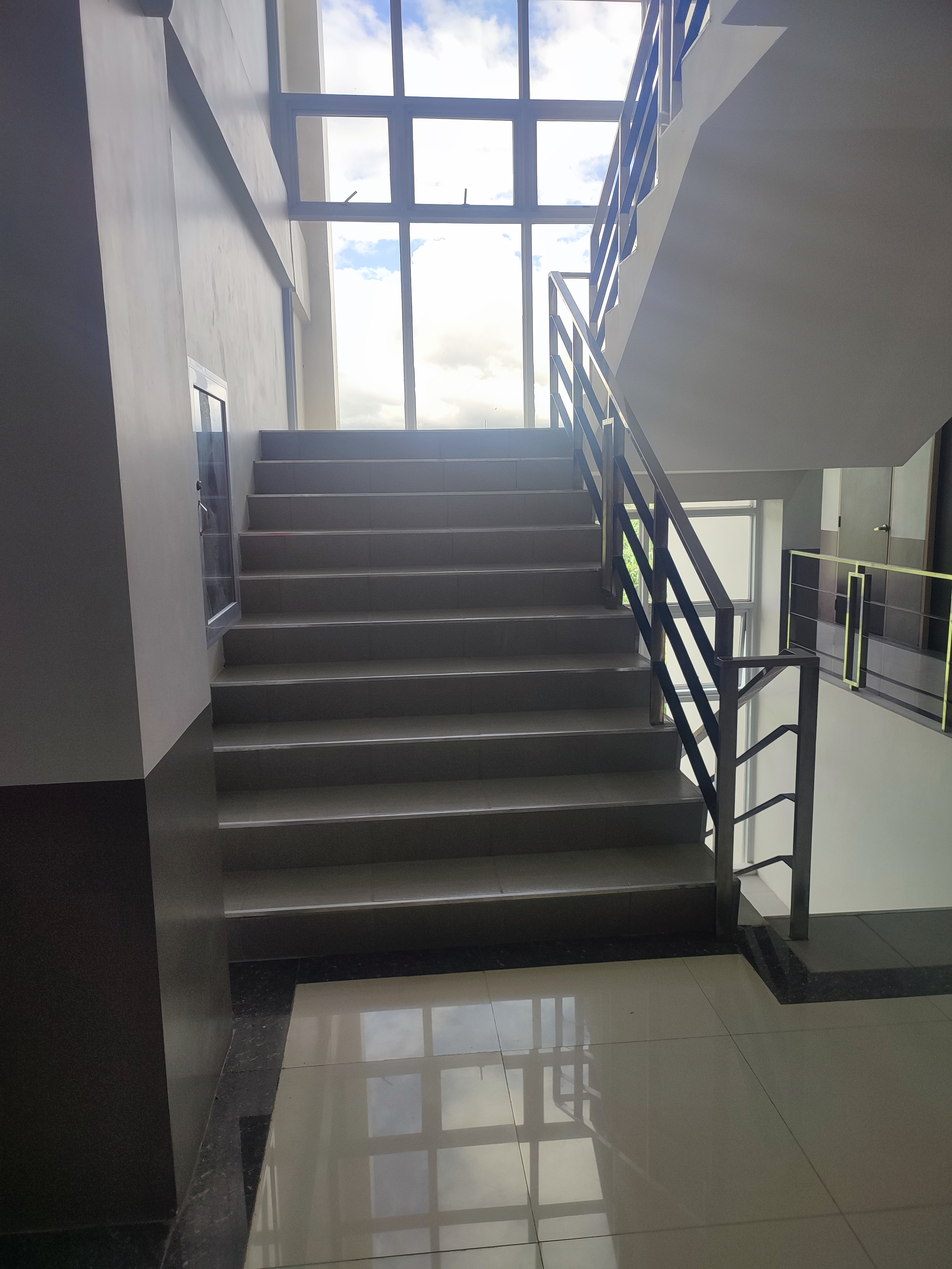Staircase: (211, 429, 726, 995)
